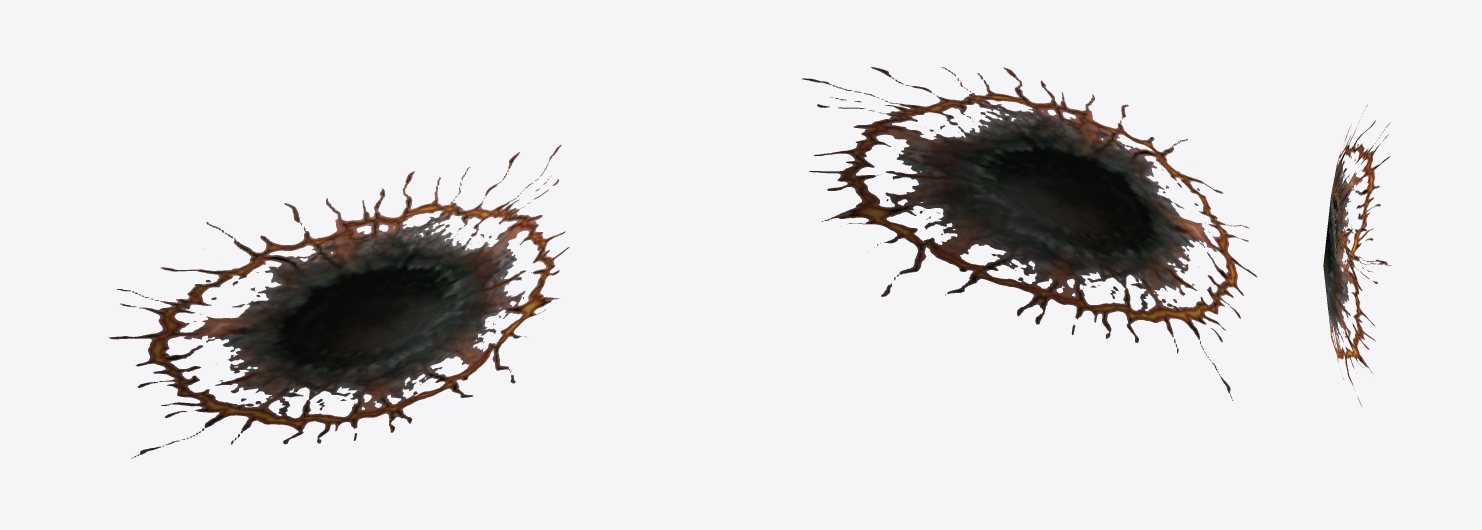
File: Trim Crater.FBX
The picture shows the model from 3 angles, left to right: view 1: azimuth 30°, elevation 25°; view 2: azimuth 150°, elevation 25°; view 3: azimuth 270°, elevation 25°; orthographic projection. The views are drawn at different scales.
Parts seen in each view (by area): view 1: Sphere001; view 2: Sphere001; view 3: Sphere001.
Boxes of the visible parts, x1,y1,x2,y2 form: Sphere001: (109, 145, 569, 458); Sphere001: (802, 67, 1257, 400); Sphere001: (1323, 105, 1391, 406).
Bounding box in the file's own units: 294 × 159 × 74.42.
1 material, 1 textured.
